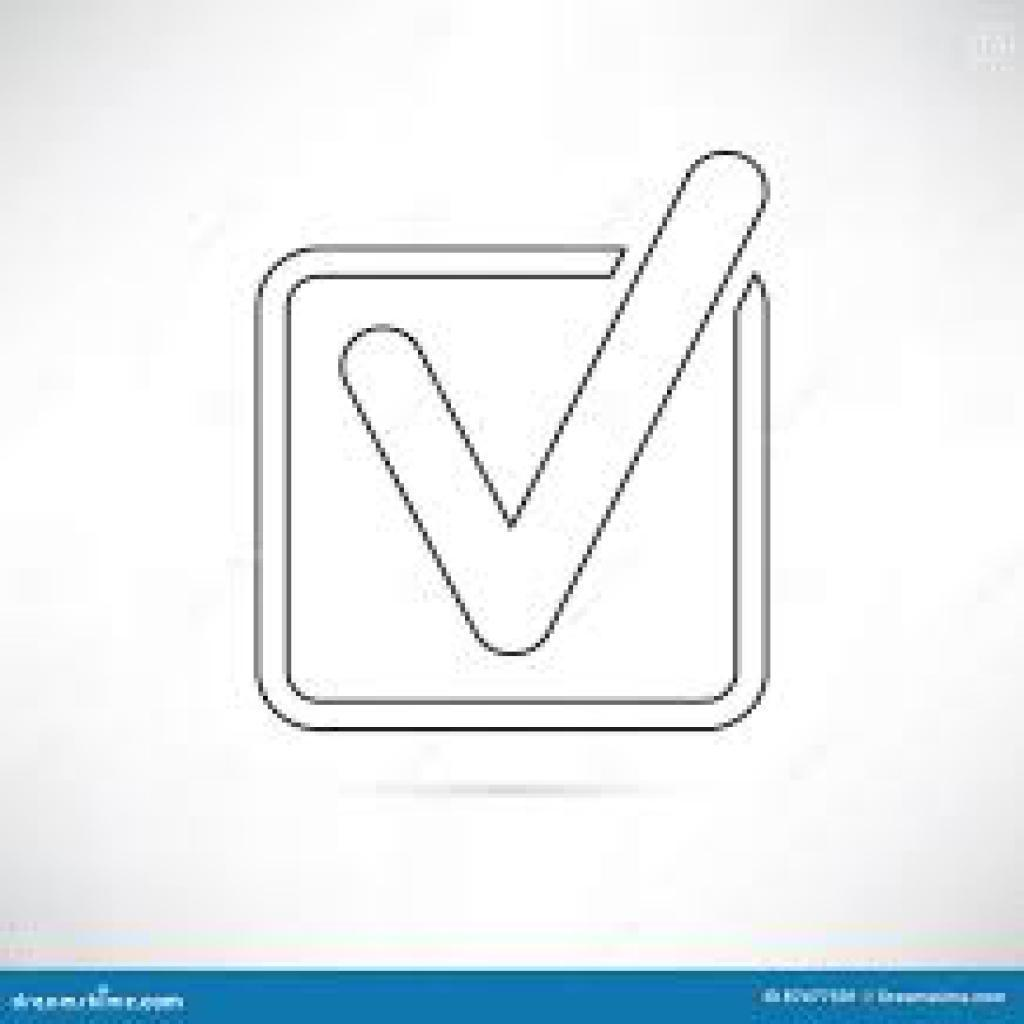checkbox: (256, 152, 783, 734)
